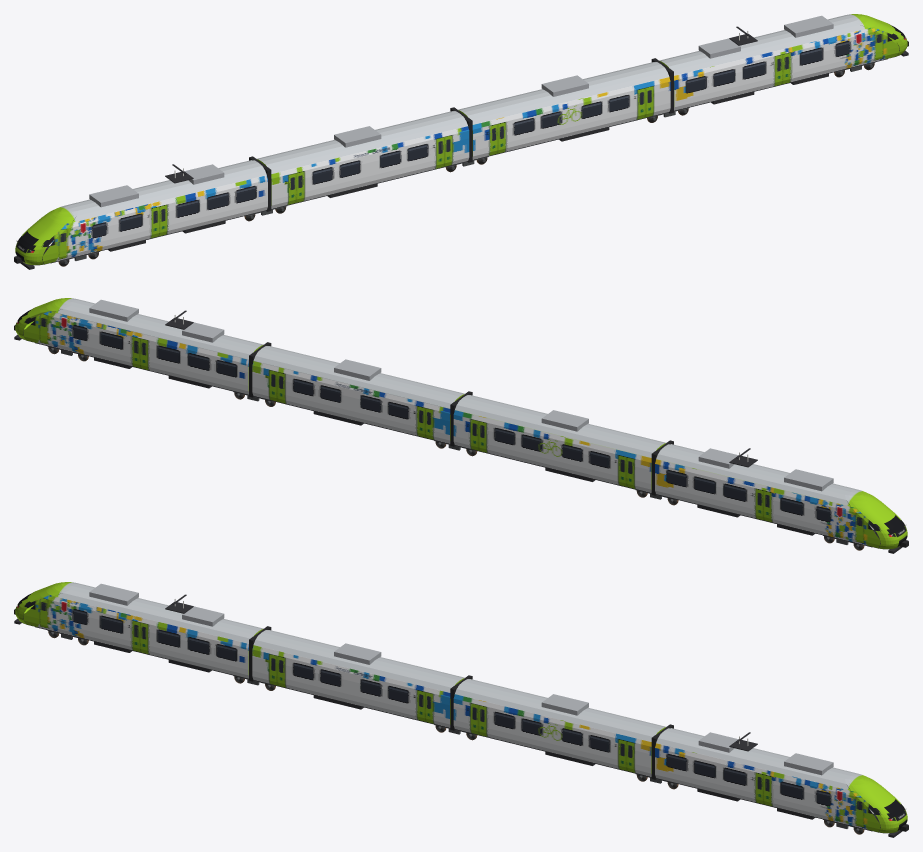
Rendered from IMP.glb.
The picture shows the model from 3 angles, top to bottom: view 1: azimuth 30°, elevation 25°; view 2: azimuth 150°, elevation 25°; view 3: azimuth 330°, elevation 25°; orthographic projection.
Visible parts, largest first — view 1: IMP_czlon1, IMP_czlon4, IMP_czlon3, IMP_czlon2, IMP_dach, IMP_rama, IMP_harm, IMP_wozek; view 2: IMP_czlon1, IMP_czlon4, IMP_czlon3, IMP_czlon2, IMP_dach, IMP_rama, IMP_harm, IMP_wozek; view 3: IMP_czlon4, IMP_czlon1, IMP_czlon2, IMP_czlon3, IMP_dach, IMP_rama, IMP_harm, IMP_wozek.
Boxes of the visible parts, box(x1,y1,x2,y2) form: IMP_czlon1: box(15, 160, 267, 265); IMP_czlon4: box(659, 14, 907, 110); IMP_czlon3: box(458, 62, 670, 159); IMP_czlon2: box(256, 111, 469, 208); IMP_dach: box(89, 15, 833, 207); IMP_rama: box(14, 26, 908, 269); IMP_harm: box(249, 58, 673, 211); IMP_wozek: box(47, 62, 875, 264); IMP_czlon1: box(655, 444, 907, 549); IMP_czlon4: box(15, 298, 263, 394); IMP_czlon3: box(252, 346, 464, 443); IMP_czlon2: box(453, 395, 666, 492); IMP_dach: box(89, 299, 833, 491); IMP_rama: box(14, 310, 908, 553); IMP_harm: box(249, 342, 673, 495); IMP_wozek: box(47, 346, 875, 548); IMP_czlon4: box(655, 728, 907, 833); IMP_czlon1: box(15, 582, 263, 678); IMP_czlon2: box(252, 630, 464, 727); IMP_czlon3: box(453, 679, 666, 776); IMP_dach: box(89, 583, 833, 775); IMP_rama: box(14, 594, 908, 837); IMP_harm: box(249, 626, 673, 779); IMP_wozek: box(47, 630, 875, 832).
Size of the model in its own units: 75.1 by 5.14 by 2.84.
Materials: 9 (1 with a texture image).
